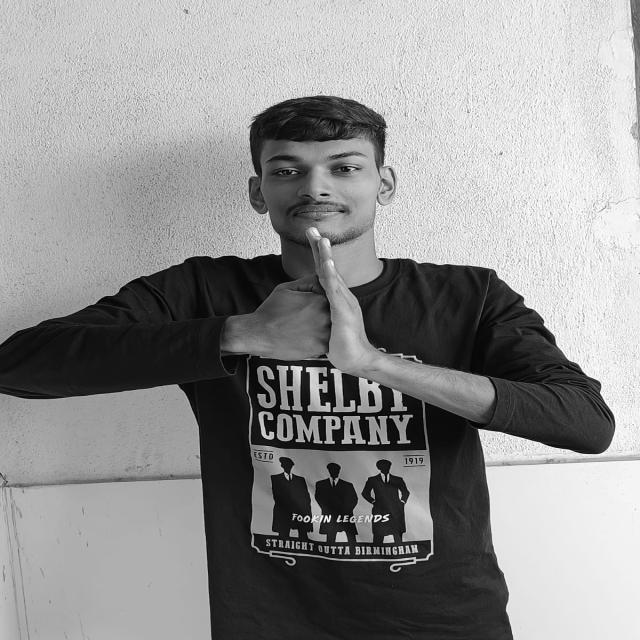Well Done: (267, 227, 375, 386)
